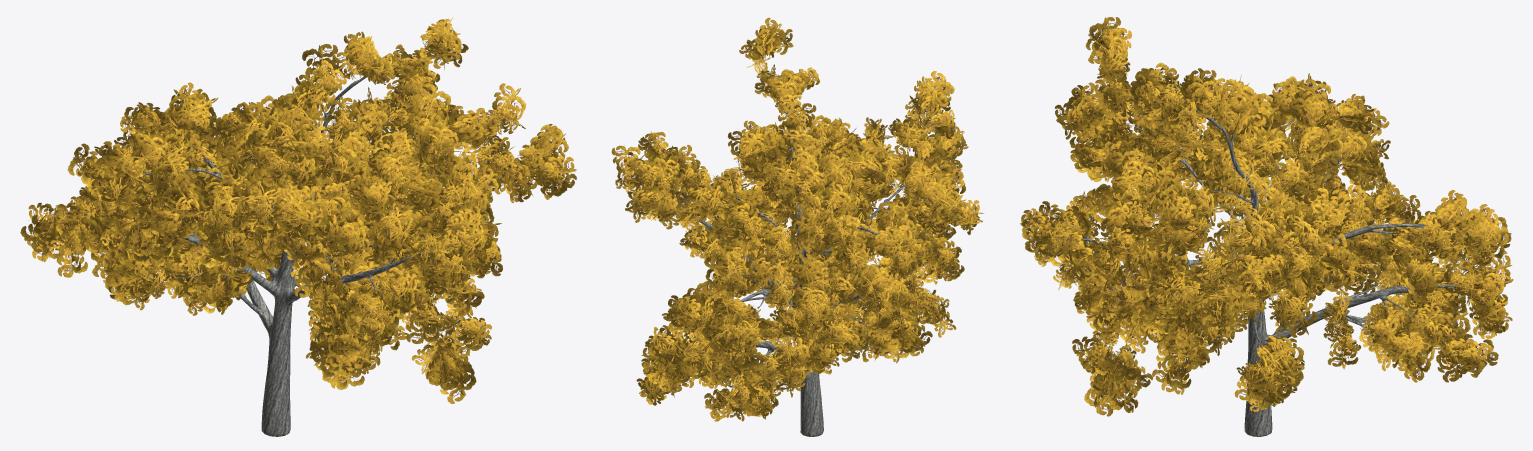
3 views of the same model, side by side, from view 1: azimuth 30°, elevation 25°; view 2: azimuth 150°, elevation 25°; view 3: azimuth 270°, elevation 25° (orthographic). The views are drawn at different scales.
Visible parts, largest first — view 1: Leaves Yellow, TreeAutumn; view 2: Leaves Yellow, TreeAutumn; view 3: Leaves Yellow, TreeAutumn.
Boxes of the visible parts, bbox=[...] form: Leaves Yellow: bbox=[20, 17, 576, 403]; TreeAutumn: bbox=[142, 75, 471, 436]; Leaves Yellow: bbox=[611, 17, 983, 421]; TreeAutumn: bbox=[676, 115, 905, 436]; Leaves Yellow: bbox=[1020, 17, 1513, 416]; TreeAutumn: bbox=[1078, 109, 1458, 436].
Bounding box in the file's own units: 102 × 92.87 × 102.
Materials: 2 (2 with a texture image).
